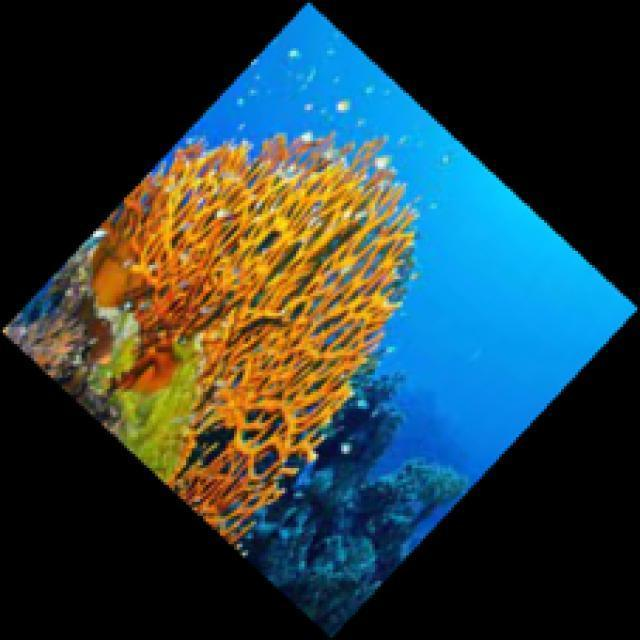Healthy: (91, 137, 416, 545), (90, 335, 206, 486)
